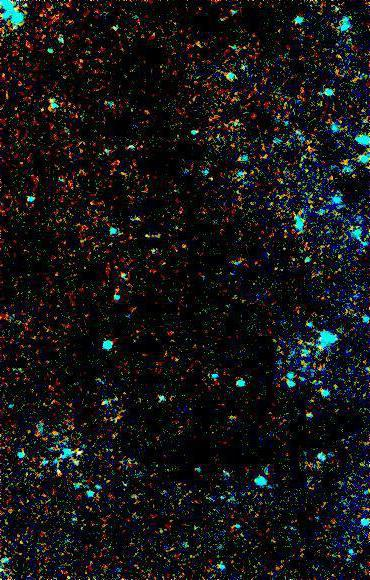star: (169, 231, 199, 261)
